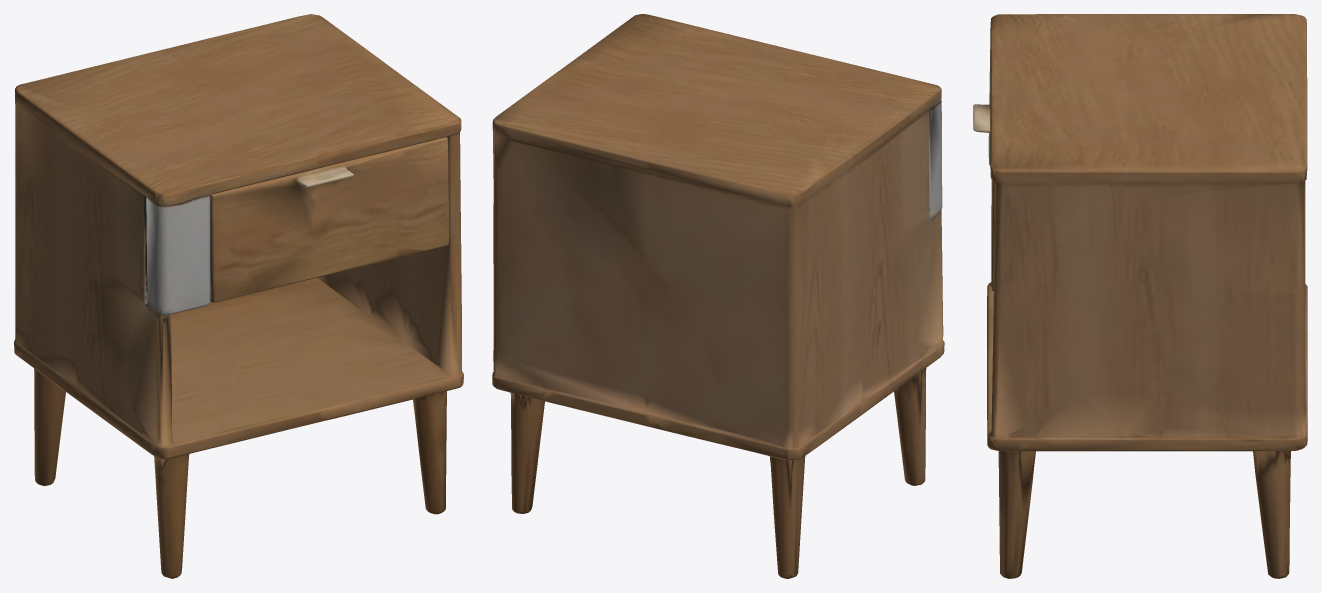
File: bedside_table.8181849a.glb
3 views of the same model, side by side, from view 1: azimuth 30°, elevation 25°; view 2: azimuth 150°, elevation 25°; view 3: azimuth 270°, elevation 25° (orthographic). The views are drawn at different scales.
Visible parts, largest first — view 1: tripo_node_fce98bb3-f589-4e09-81f8-3ba561a874e6; view 2: tripo_node_fce98bb3-f589-4e09-81f8-3ba561a874e6; view 3: tripo_node_fce98bb3-f589-4e09-81f8-3ba561a874e6.
Part boxes in pixels (x1,y1,x2,y2): tripo_node_fce98bb3-f589-4e09-81f8-3ba561a874e6: [14, 14, 463, 578]; tripo_node_fce98bb3-f589-4e09-81f8-3ba561a874e6: [492, 14, 944, 578]; tripo_node_fce98bb3-f589-4e09-81f8-3ba561a874e6: [973, 14, 1307, 578].
Bounding box in the file's own units: 0.45 × 0.5497 × 0.3999.
Materials: 1 (1 with a texture image).
